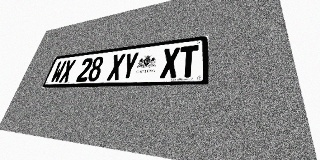2: (76, 57, 94, 82)
8: (86, 56, 105, 81)
T: (178, 45, 199, 78)
W: (50, 60, 67, 83)
X: (160, 47, 180, 78), (106, 53, 126, 81), (59, 59, 76, 83)
Y: (120, 52, 139, 80)
